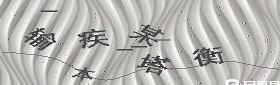chinese: (25, 26, 56, 51), (77, 28, 107, 53), (197, 48, 224, 71), (139, 55, 167, 76), (135, 25, 161, 46), (74, 65, 94, 81)
